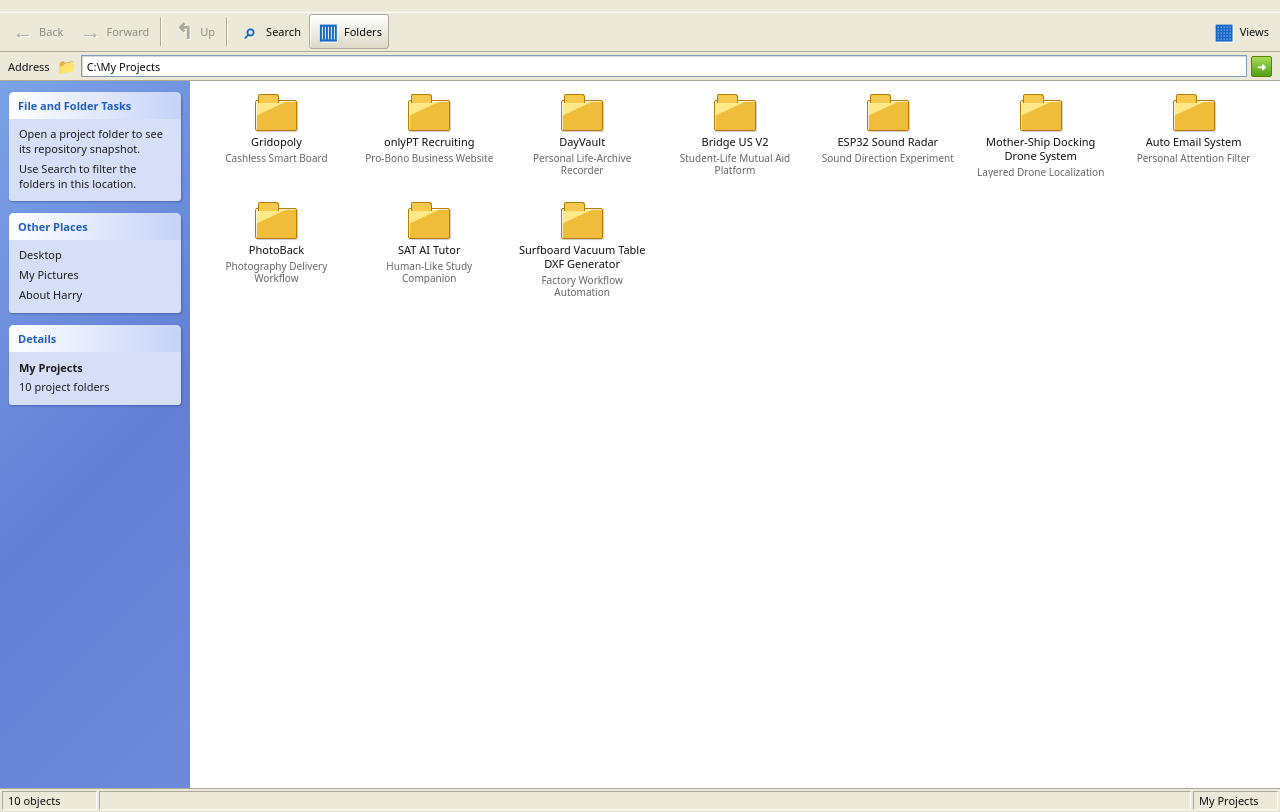
Scenario: ProjectsExplorer › filters projects by name, kicker, category, and stack
The image size is (1280, 812).
Step 1. Click the button "⌕ Search" → (270,32), box x1=231 y1=14 x2=308 y2=49
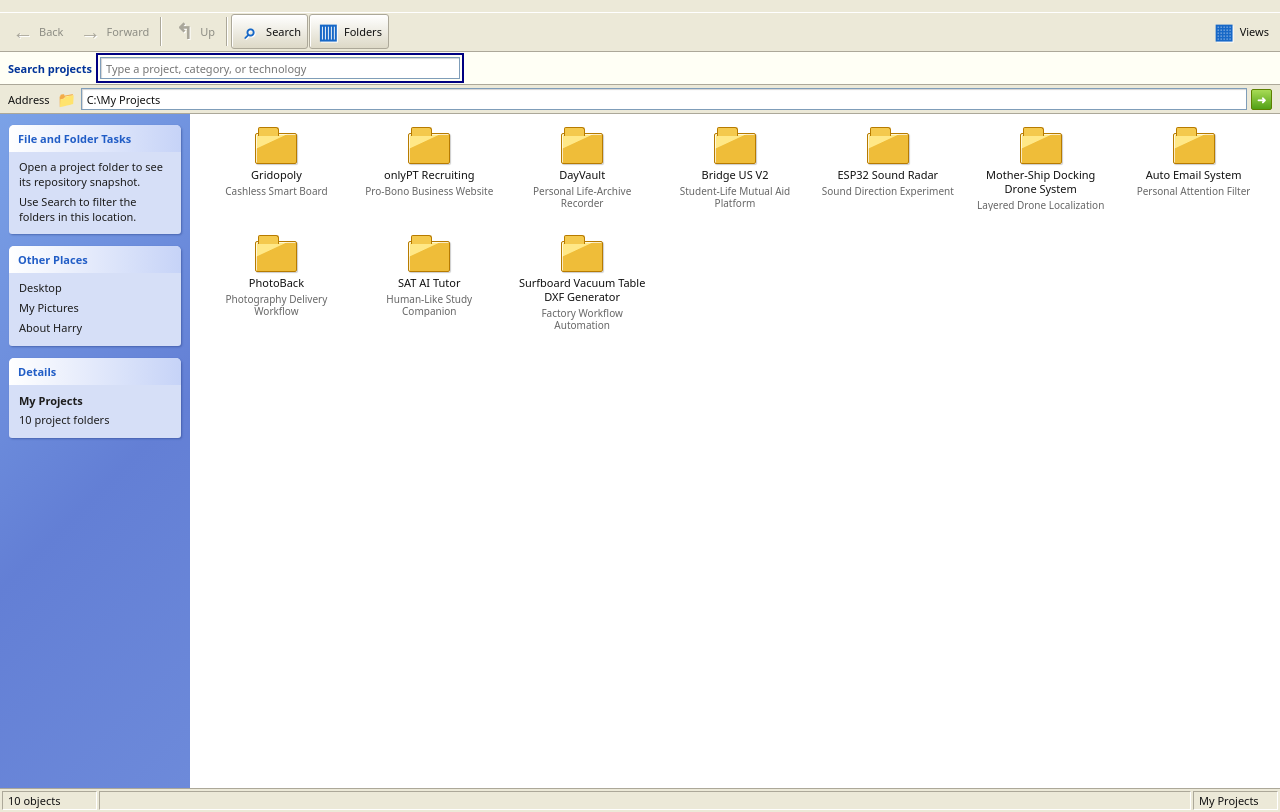
Step 2. Type "OpenAI" into the search field labelled "Search projects" → (280,68), box x1=100 y1=57 x2=460 y2=79
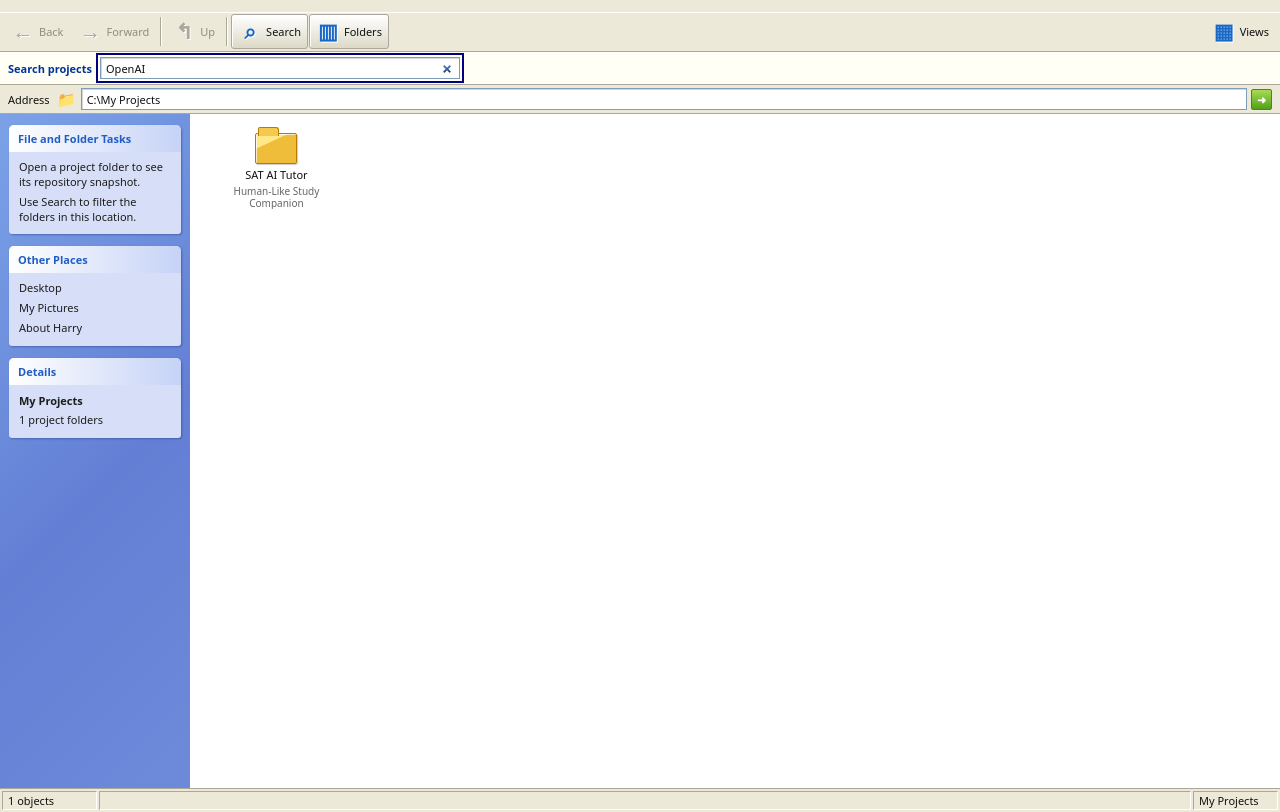
Expected: the button with aria-label "SAT AI Tutor folder" is shown, x1=205 y1=129 x2=348 y2=221
Expected: the text "1 objects" is shown, x1=2 y1=791 x2=97 y2=810
Step 3. Replace the text in the search field labelled "Search projects" with "Factory Workflow" → (280,68), box x1=100 y1=57 x2=460 y2=79
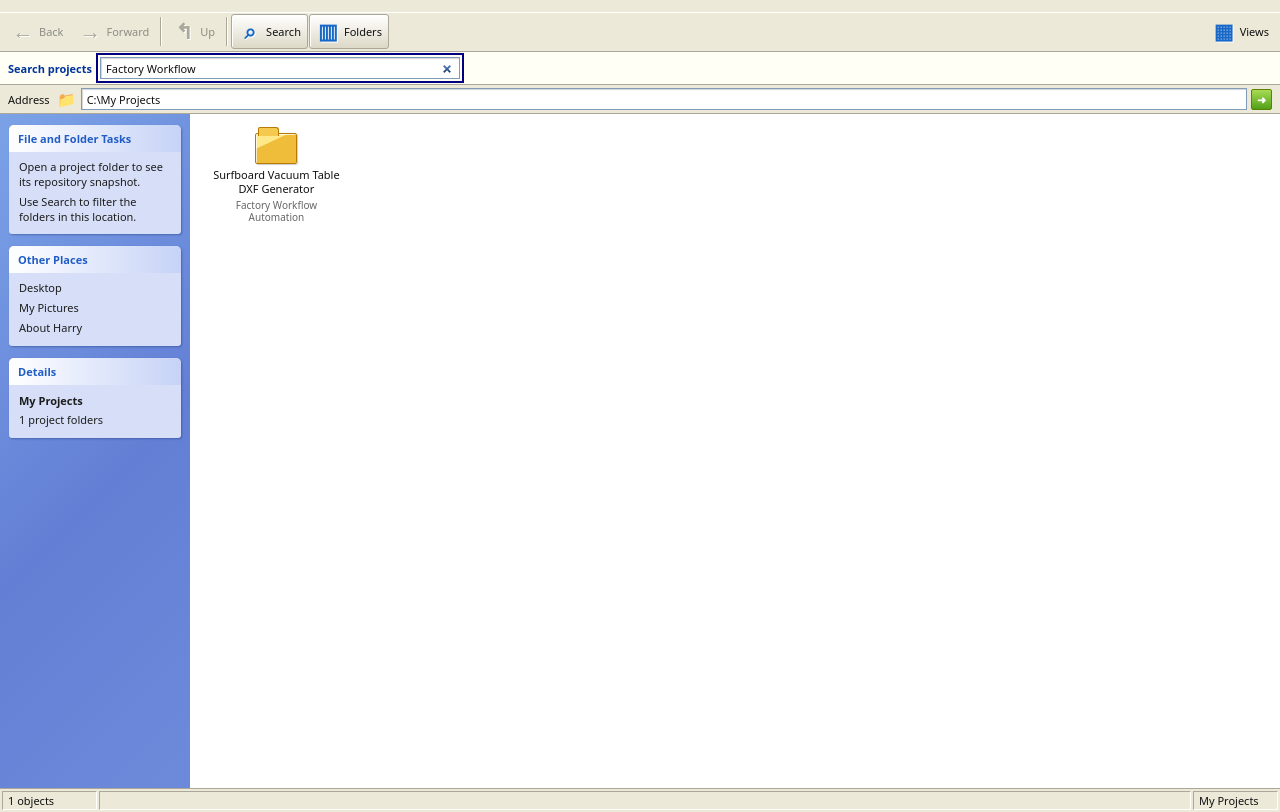
Expected: the button with aria-label "Surfboard Vacuum Table DXF Generator folder" is shown, x1=205 y1=129 x2=348 y2=226
Step 4. Replace the text in the search field labelled "Search projects" with "electronics" → (280,68), box x1=100 y1=57 x2=460 y2=79
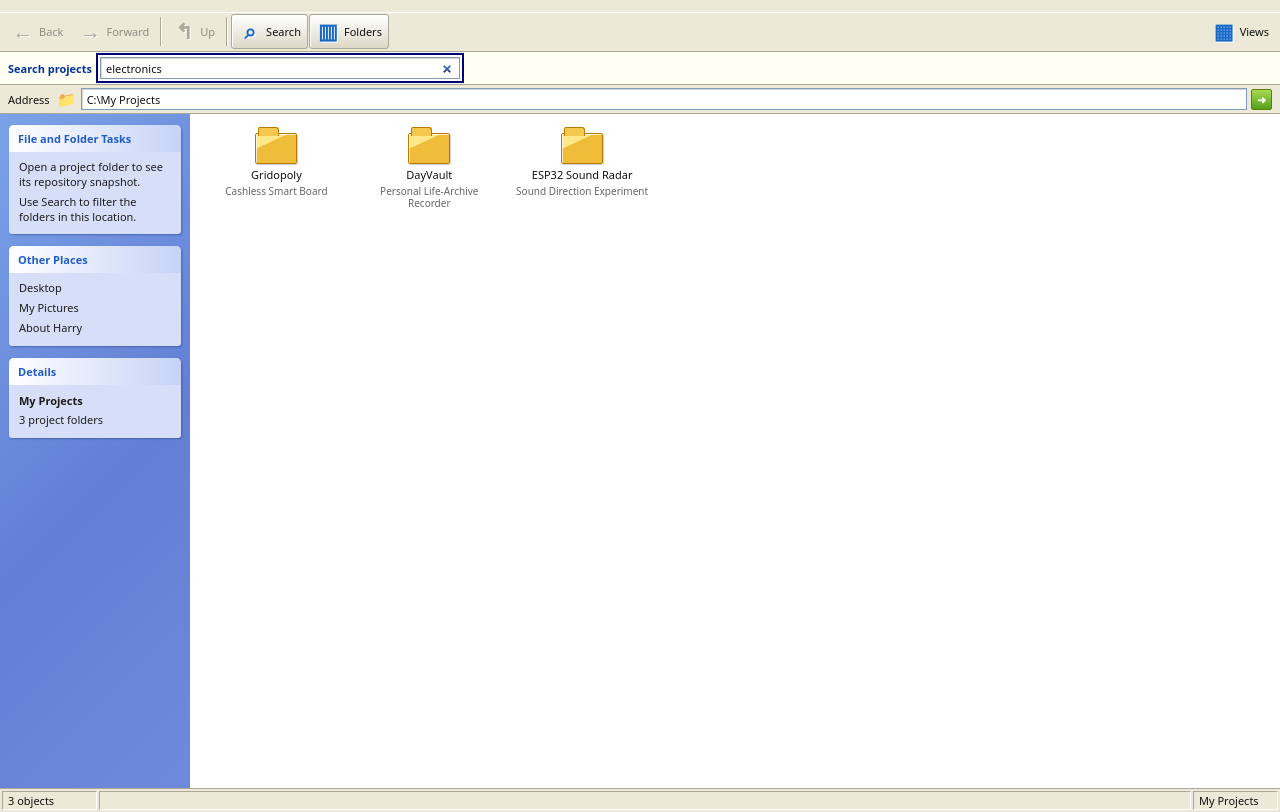
Expected: the button with aria-label "ESP32 Sound Radar folder" is shown, x1=511 y1=129 x2=654 y2=221
Expected: the text "3 objects" is shown, x1=2 y1=791 x2=97 y2=810
